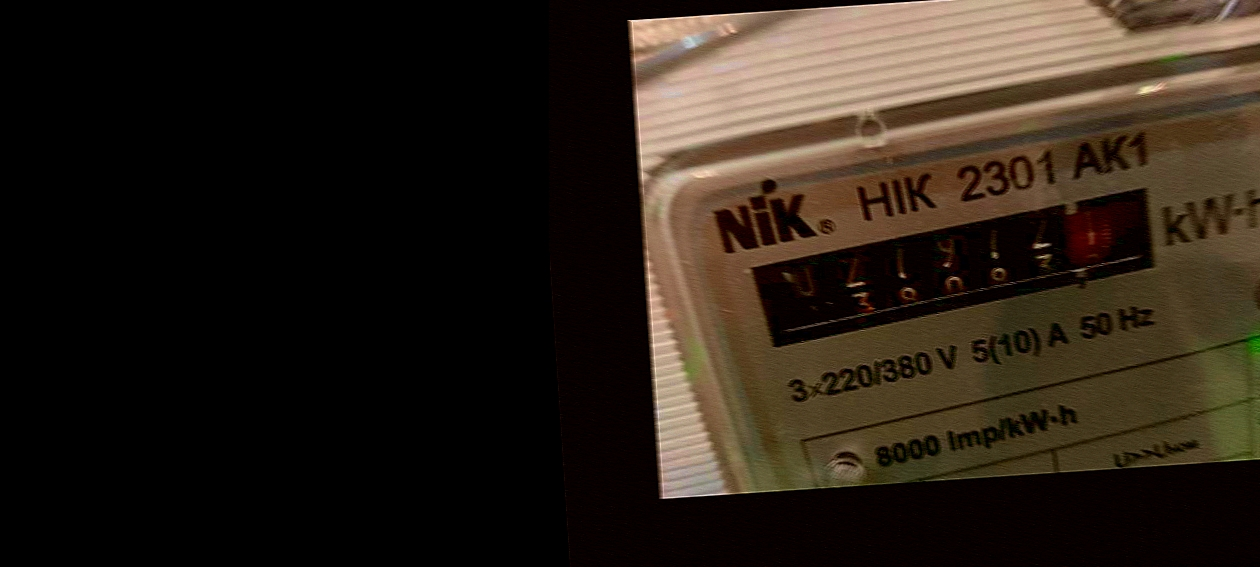0: (789, 261, 820, 299)
1: (1079, 205, 1104, 249)
2: (838, 249, 869, 289), (1026, 212, 1056, 251)
7: (979, 220, 1008, 263), (887, 243, 913, 281)
9: (934, 232, 962, 269)
screen: (731, 176, 1193, 359)
